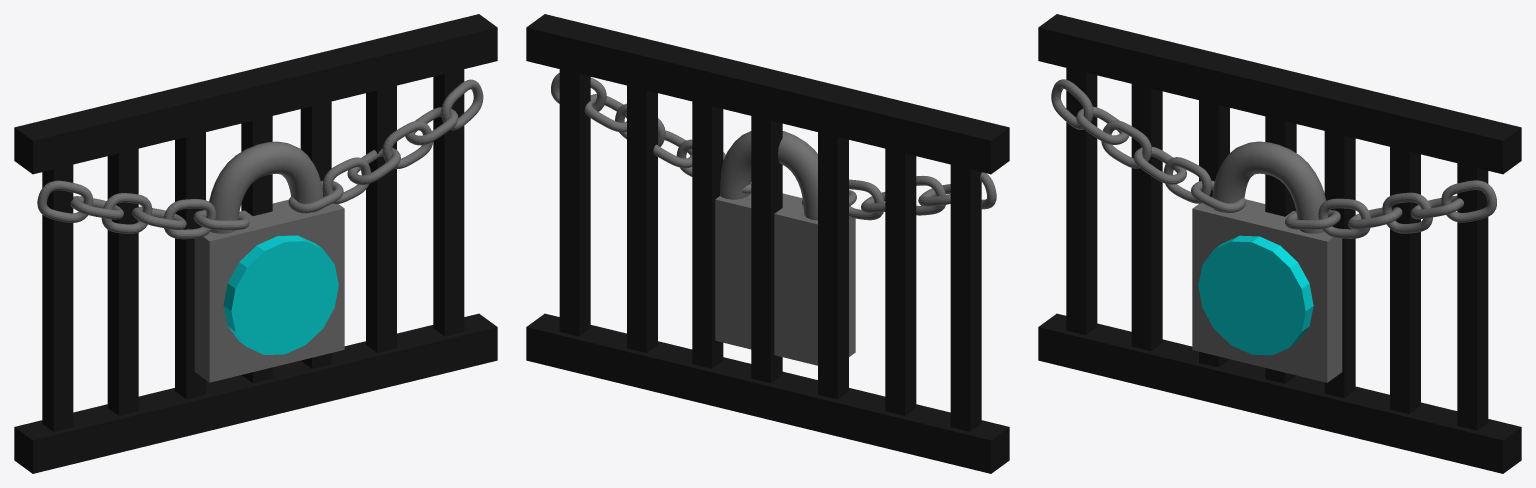
File: NewCage_Circle_C.fbx
The picture shows the model from 3 angles, left to right: view 1: azimuth 30°, elevation 25°; view 2: azimuth 150°, elevation 25°; view 3: azimuth 330°, elevation 25°; orthographic projection.
Parts seen in each view (by area): view 1: Cube.007, Cube.008, Cube.009, Cylinder.002, Cylinder.003, Cube.004, Cube.005, Cube.003, Cube.002, Cube.006, Cylinder, Cube.001 (+1 smaller); view 2: Cube.007, Cube.008, Cube.009, Cube.005, Cube.004, Cube.003, Cube.006, Cube.002, Cube.001, Cube, Cylinder.002, Cylinder; view 3: Cube.007, Cube.008, Cube.009, Cylinder.002, Cylinder.003, Cube.003, Cube.005, Cube.004, Cube.002, Cube.001, Cylinder, Cube.006 (+1 smaller).
Boxes of the visible parts, box(x1,y1,x2,y2) form: Cube.007: box(14, 14, 497, 174); Cube.008: box(14, 313, 497, 473); Cube.009: box(194, 199, 344, 382); Cylinder.002: box(37, 79, 483, 239); Cylinder.003: box(223, 235, 338, 354); Cube.004: box(42, 164, 73, 431); Cube.005: box(107, 148, 138, 415); Cube.003: box(433, 69, 464, 336); Cube.002: box(366, 85, 396, 352); Cube.006: box(175, 132, 205, 399); Cylinder: box(209, 141, 323, 233); Cube.001: box(300, 101, 331, 368); Cube.007: box(526, 14, 1009, 174); Cube.008: box(526, 313, 1009, 473); Cube.009: box(715, 193, 855, 365); Cube.005: box(885, 148, 916, 415); Cube.004: box(950, 164, 981, 431); Cube.003: box(559, 69, 590, 336); Cube.006: box(818, 132, 848, 399); Cube.002: box(627, 85, 657, 352); Cube.001: box(692, 101, 723, 368); Cube: box(751, 116, 782, 383); Cylinder.002: box(551, 73, 996, 220); Cylinder: box(720, 131, 817, 220); Cube.007: box(1038, 14, 1521, 174); Cube.008: box(1038, 313, 1521, 473); Cube.009: box(1192, 199, 1342, 382); Cylinder.002: box(1051, 79, 1496, 238); Cylinder.003: box(1198, 235, 1313, 355); Cube.003: box(1457, 163, 1488, 430); Cube.005: box(1131, 84, 1162, 350); Cube.004: box(1066, 68, 1097, 334); Cube.002: box(1390, 147, 1420, 413); Cube.001: box(1324, 131, 1355, 397); Cylinder: box(1212, 141, 1326, 233); Cube.006: box(1199, 100, 1229, 367).
Size of the model in its own units: 865 by 592 by 122.
